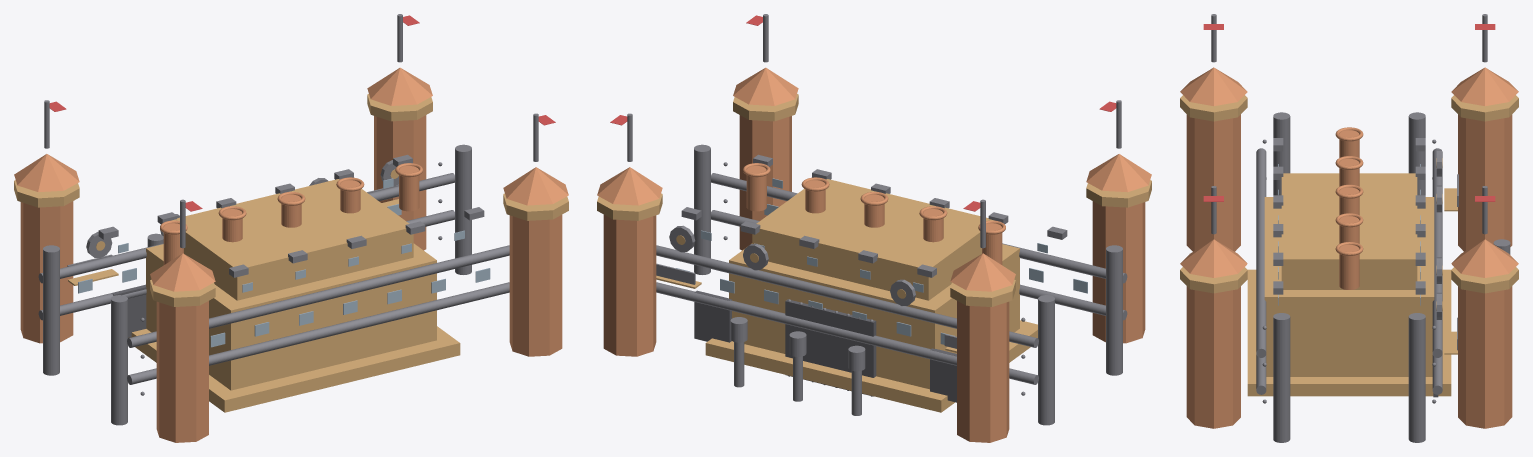
Rendered from SteampunkBarracks.fbx.
The picture shows the model from 3 angles, left to right: view 1: azimuth 30°, elevation 25°; view 2: azimuth 150°, elevation 25°; view 3: azimuth 270°, elevation 25°; orthographic projection.
Visible parts, largest first — view 1: SteampunkBarracks; view 2: SteampunkBarracks; view 3: SteampunkBarracks.
Boxes of the visible parts, x1=… form: SteampunkBarracks: x1=14, y1=14, x2=568, y2=442; SteampunkBarracks: x1=597, y1=14, x2=1151, y2=442; SteampunkBarracks: x1=1180, y1=14, x2=1518, y2=442.
Bounding box in the file's own units: 14.5 × 8 × 10.
